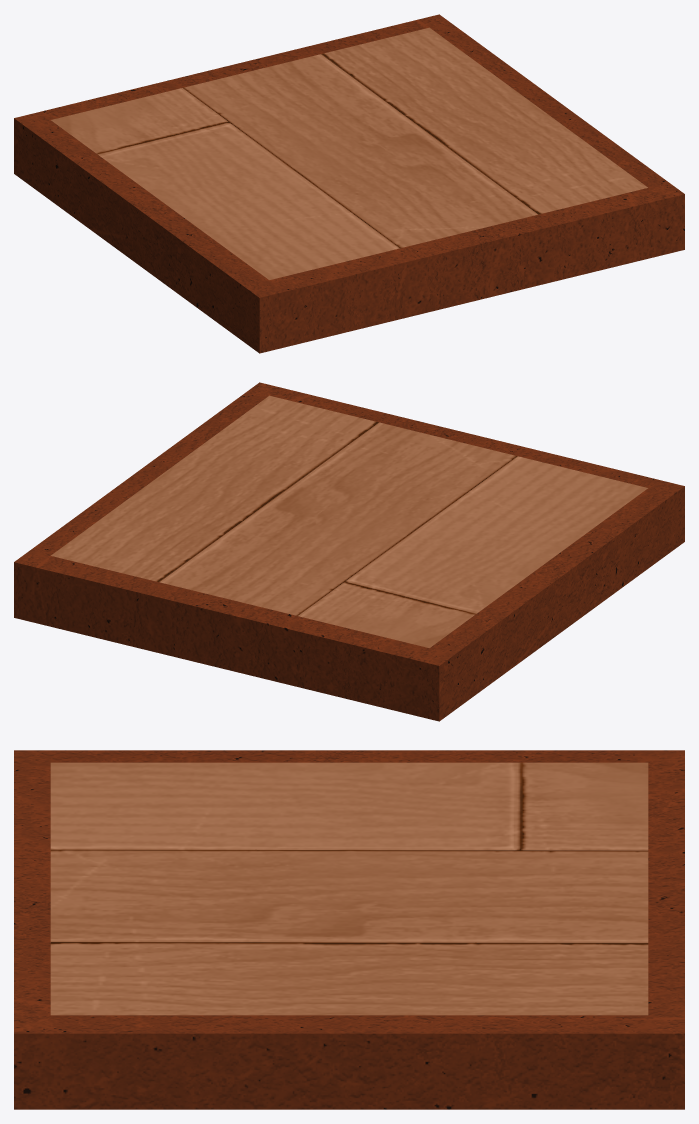
The model's file is FloorTile.glb.
3 views of the same model, one above another, from view 1: azimuth 30°, elevation 25°; view 2: azimuth 150°, elevation 25°; view 3: azimuth 270°, elevation 25° (orthographic). The views are drawn at different scales.
Visible parts, largest first — view 1: Plane.001, Cube; view 2: Plane.001, Cube; view 3: Plane.001, Cube.
Part boxes in pixels (left/top/right/bottom): Plane.001: left=51, top=27, right=647, bottom=279; Cube: left=14, top=14, right=684, bottom=353; Plane.001: left=51, top=395, right=647, bottom=647; Cube: left=14, top=382, right=684, bottom=721; Plane.001: left=50, top=762, right=648, bottom=1015; Cube: left=14, top=750, right=684, bottom=1109.
Bounding box in the file's own units: 2 × 0.26 × 2.
2 materials, 2 textured.
